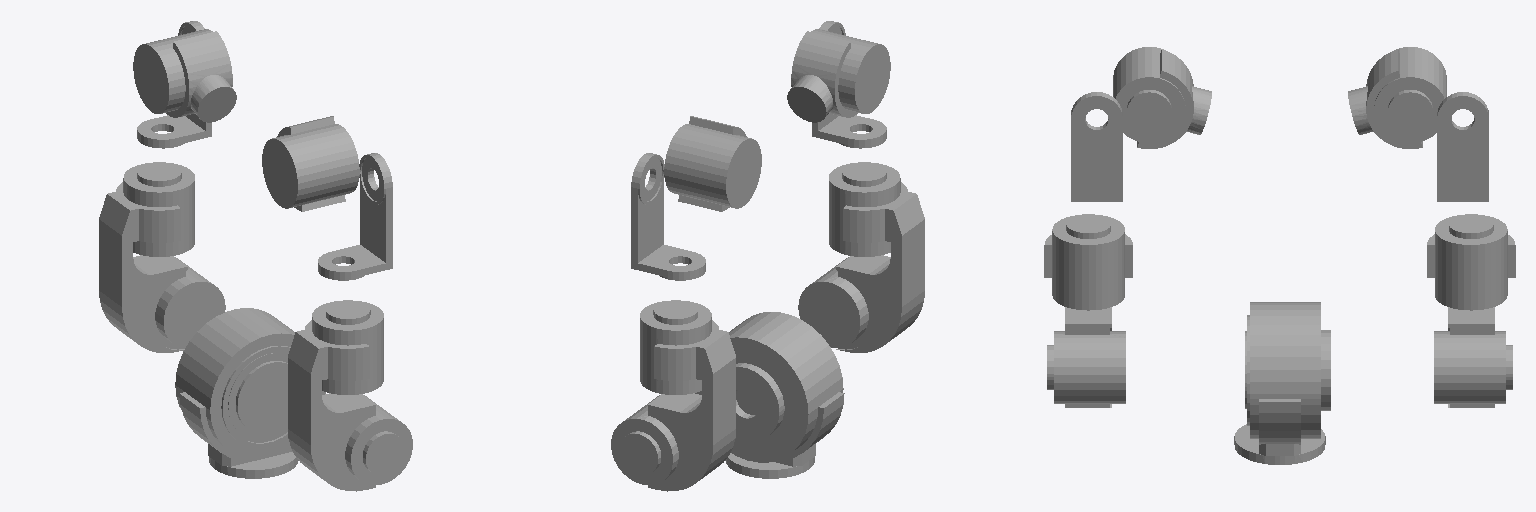
URDF robot description (g1_dual_arm):
<robot name="g1_dual_arm">
  <mujoco>
    <compiler meshdir="../meshes" discardvisual="false"/>
  </mujoco>

  <!-- [CAUTION] uncomment when convert to mujoco -->
  <!-- <link name="world"></link>
  <joint name="floating_base_joint" type="floating">
    <parent link="world"/>
    <child link="waist_yaw_link"/>
  </joint> -->

  <!-- Torso -->
  <link name="waist_yaw_link">
    <inertial>
      <origin xyz="0.003964 0 0.018769" rpy="0 0 0"/>
      <mass value="0.244"/>
      <inertia ixx="9.9587E-05" ixy="-1.833E-06" ixz="-1.2617E-05" iyy="0.00012411" iyz="-1.18E-07" izz="0.00015586"/>
    </inertial>
    <visual>
      <origin xyz="0 0 0" rpy="0 0 0"/>
      <geometry>
        <mesh filename="../meshes/waist_yaw_link.STL"/>
      </geometry>
      <material name="white">
        <color rgba="0.7 0.7 0.7 1"/>
      </material>
    </visual>
  </link>
  <link name="waist_roll_link">
    <inertial>
      <origin xyz="0 -0.000236 0.010111" rpy="0 0 0"/>
      <mass value="0.047"/>
      <inertia ixx="7.515E-06" ixy="0" ixz="0" iyy="6.398E-06" iyz="9.9E-08" izz="3.988E-06"/>
    </inertial>
    <visual>
      <origin xyz="0 0 0" rpy="0 0 0"/>
      <geometry>
        <mesh filename="../meshes/waist_roll_link.STL"/>
      </geometry>
      <material name="white">
        <color rgba="0.7 0.7 0.7 1"/>
      </material>
    </visual>
  </link>
  <joint name="waist_roll_joint" type="fixed">
    <origin xyz="-0.0039635 0 0.035" rpy="0 0 0"/>
    <parent link="waist_yaw_link"/>
    <child link="waist_roll_link"/>
    <axis xyz="1 0 0"/>
    <limit lower="-0.52" upper="0.52" effort="50" velocity="37"/>
  </joint>
  <link name="torso_link">
    <inertial>
      <origin xyz="0.002601 0.000257 0.153719" rpy="0 0 0"/>
      <mass value="8.562"/>
      <inertia ixx="0.065674966" ixy="-8.597E-05" ixz="-0.001737252" iyy="0.053535188" iyz="8.6899E-05" izz="0.030808125"/>
    </inertial>
    <visual>
      <origin xyz="0 0 0" rpy="0 0 0"/>
      <geometry>
        <mesh filename="../meshes/torso_link.STL"/>
      </geometry>
      <material name="white">
        <color rgba="0.7 0.7 0.7 1"/>
      </material>
    </visual>
    <collision>
      <origin xyz="0 0 0" rpy="0 0 0"/>
      <geometry>
        <mesh filename="../meshes/torso_link.STL"/>
      </geometry>
    </collision>
  </link>
  <joint name="waist_pitch_joint" type="fixed">
    <origin xyz="0 0 0.019" rpy="0 0 0"/>
    <parent link="waist_roll_link"/>
    <child link="torso_link"/>
    <axis xyz="0 1 0"/>
    <limit lower="-0.52" upper="0.52" effort="50" velocity="37"/>
  </joint>

  <!-- LOGO -->
  <joint name="logo_joint" type="fixed">
    <origin xyz="0.0039635 0 -0.054" rpy="0 0 0"/>
    <parent link="torso_link"/>
    <child link="logo_link"/>
  </joint>
  <link name="logo_link">
    <inertial>
      <origin xyz="0 0 0" rpy="0 0 0"/>
      <mass value="0.001"/>
      <inertia ixx="1e-7" ixy="0" ixz="0" iyy="1e-7" iyz="0" izz="1e-7"/>
    </inertial>
    <visual>
      <origin xyz="0 0 0" rpy="0 0 0"/>
      <geometry>
        <mesh filename="../meshes/logo_link.STL"/>
      </geometry>
      <material name="dark">
        <color rgba="0.2 0.2 0.2 1"/>
      </material>
    </visual>
    <collision>
      <origin xyz="0 0 0" rpy="0 0 0"/>
      <geometry>
        <mesh filename="../meshes/logo_link.STL"/>
      </geometry>
    </collision>
  </link>

  <!-- Head -->
  <link name="head_link">
    <inertial>
      <origin xyz="0.005267 0.000299 0.449869" rpy="0 0 0"/>
      <mass value="1.036"/>
      <inertia ixx="0.004085051" ixy="-2.543E-06" ixz="-6.9455E-05" iyy="0.004185212" iyz="-3.726E-06" izz="0.001807911"/>
    </inertial>
    <visual>
      <origin xyz="0 0 0" rpy="0 0 0"/>
      <geometry>
        <mesh filename="../meshes/head_link.STL"/>
      </geometry>
      <material name="dark">
        <color rgba="0.2 0.2 0.2 1"/>
      </material>
    </visual>
    <collision>
      <origin xyz="0 0 0" rpy="0 0 0"/>
      <geometry>
        <mesh filename="../meshes/head_link.STL"/>
      </geometry>
    </collision>
  </link>
  <joint name="head_joint" type="fixed">
    <origin xyz="0.0039635 0 -0.054" rpy="0 0 0"/>
    <parent link="torso_link"/>
    <child link="head_link"/>
  </joint>

  <!-- Waist Support -->
  <link name="waist_support_link">
    <inertial>
      <origin xyz="0 0 0" rpy="0 0 0"/>
      <mass value="0.001"/>
      <inertia ixx="1e-7" ixy="0" ixz="0" iyy="1e-7" iyz="0" izz="1e-7"/>
    </inertial>
    <visual>
      <origin xyz="0 0 0" rpy="0 0 0"/>
      <geometry>
        <mesh filename="../meshes/waist_support_link.STL"/>
      </geometry>
      <material name="white">
        <color rgba="0.7 0.7 0.7 1"/>
      </material>
    </visual>
    <collision>
      <origin xyz="0 0 0" rpy="0 0 0"/>
      <geometry>
        <mesh filename="../meshes/waist_support_link.STL"/>
      </geometry>
    </collision>
  </link>
  <joint name="waist_support_joint" type="fixed">
    <origin xyz="0.0039635 0 -0.054" rpy="0 0 0"/>
    <parent link="torso_link"/>
    <child link="waist_support_link"/>
  </joint>

  <!-- IMU -->
  <link name="imu_link"></link>
  <joint name="imu_joint" type="fixed">
    <origin xyz="-0.03959 -0.00224 0.13792" rpy="0 0 0"/>
    <parent link="torso_link"/>
    <child link="imu_link"/>
  </joint>

  <!-- Arm -->
  <link name="left_shoulder_pitch_link">
    <inertial>
      <origin xyz="0 0.035892 -0.011628" rpy="0 0 0"/>
      <mass value="0.718"/>
      <inertia ixx="0.0004291" ixy="-9.2E-06" ixz="6.4E-06" iyy="0.000453" iyz="2.26E-05" izz="0.000423"/>
    </inertial>
    <visual>
      <origin xyz="0 0 0" rpy="0 0 0"/>
      <geometry>
        <mesh filename="../meshes/left_shoulder_pitch_link.STL"/>
      </geometry>
      <material name="white">
        <color rgba="0.7 0.7 0.7 1"/>
      </material>
    </visual>
    <collision>
      <origin xyz="0 0.04 -0.01" rpy="0 1.5707963267948966 0"/>
      <geometry>
        <cylinder radius="0.03" length="0.05"/>
      </geometry>
    </collision>
  </link>
  <joint name="left_shoulder_pitch_joint" type="revolute">
    <origin xyz="0.0039563 0.10022 0.23778" rpy="0.27931 5.4949E-05 -0.00019159"/>
    <parent link="torso_link"/>
    <child link="left_shoulder_pitch_link"/>
    <axis xyz="0 1 0"/>
    <limit lower="-3.0892" upper="2.6704" effort="25" velocity="37"/>
  </joint>
  <link name="left_shoulder_roll_link">
    <inertial>
      <origin xyz="-0.000227 0.00727 -0.063243" rpy="0 0 0"/>
      <mass value="0.643"/>
      <inertia ixx="0.0006177" ixy="-1E-06" ixz="8.7E-06" iyy="0.0006912" iyz="-5.3E-06" izz="0.0003894"/>
    </inertial>
    <visual>
      <origin xyz="0 0 0" rpy="0 0 0"/>
      <geometry>
        <mesh filename="../meshes/left_shoulder_roll_link.STL"/>
      </geometry>
      <material name="white">
        <color rgba="0.7 0.7 0.7 1"/>
      </material>
    </visual>
    <collision>
      <origin xyz="-0.004 0.006 -0.053" rpy="0 0 0"/>
      <geometry>
        <cylinder radius="0.03" length="0.03"/>
      </geometry>
    </collision>
  </link>
  <joint name="left_shoulder_roll_joint" type="revolute">
    <origin xyz="0 0.038 -0.013831" rpy="-0.27925 0 0"/>
    <parent link="left_shoulder_pitch_link"/>
    <child link="left_shoulder_roll_link"/>
    <axis xyz="1 0 0"/>
    <limit lower="-1.5882" upper="2.2515" effort="25" velocity="37"/>
  </joint>
  <link name="left_shoulder_yaw_link">
    <inertial>
      <origin xyz="0.010773 -0.002949 -0.072009" rpy="0 0 0"/>
      <mass value="0.734"/>
      <inertia ixx="0.0009988" ixy="7.9E-06" ixz="0.0001412" iyy="0.0010605" iyz="-2.86E-05" izz="0.0004354"/>
    </inertial>
    <visual>
      <origin xyz="0 0 0" rpy="0 0 0"/>
      <geometry>
        <mesh filename="../meshes/left_shoulder_yaw_link.STL"/>
      </geometry>
      <material name="white">
        <color rgba="0.7 0.7 0.7 1"/>
      </material>
    </visual>
    <collision>
      <origin xyz="0 0 0" rpy="0 0 0"/>
      <geometry>
        <mesh filename="../meshes/left_shoulder_yaw_link.STL"/>
      </geometry>
    </collision>
  </link>
  <joint name="left_shoulder_yaw_joint" type="revolute">
    <origin xyz="0 0.00624 -0.1032" rpy="0 0 0"/>
    <parent link="left_shoulder_roll_link"/>
    <child link="left_shoulder_yaw_link"/>
    <axis xyz="0 0 1"/>
    <limit lower="-2.618" upper="2.618" effort="25" velocity="37"/>
  </joint>
  <link name="left_elbow_link">
    <inertial>
      <origin xyz="0.064956 0.004454 -0.010062" rpy="0 0 0"/>
      <mass value="0.6"/>
      <inertia ixx="0.0002891" ixy="6.53E-05" ixz="1.72E-05" iyy="0.0004152" iyz="-5.6E-06" izz="0.0004197"/>
    </inertial>
    <visual>
      <origin xyz="0 0 0" rpy="0 0 0"/>
      <geometry>
        <mesh filename="../meshes/left_elbow_link.STL"/>
      </geometry>
      <material name="white">
        <color rgba="0.7 0.7 0.7 1"/>
      </material>
    </visual>
    <collision>
      <origin xyz="0 0 0" rpy="0 0 0"/>
      <geometry>
        <mesh filename="../meshes/left_elbow_link.STL"/>
      </geometry>
    </collision>
  </link>
  <joint name="left_elbow_joint" type="revolute">
    <origin xyz="0.015783 0 -0.080518" rpy="0 0 0"/>
    <parent link="left_shoulder_yaw_link"/>
    <child link="left_elbow_link"/>
    <axis xyz="0 1 0"/>
    <limit lower="-1.0472" upper="2.0944" effort="25" velocity="37"/>
  </joint>
  <joint name="left_wrist_roll_joint" type="revolute">
    <origin xyz="0.100 0.00188791 -0.010" rpy="0 0 0"/>
    <axis xyz="1 0 0"/>
    <parent link="left_elbow_link"/>
    <child link="left_wrist_roll_link"/>
    <limit effort="25" velocity="37" lower="-1.972222054" upper="1.972222054"/>
  </joint>
  <link name="left_wrist_roll_link">
    <inertial>
      <origin xyz="0.01713944778 0.00053759094 0.00000048864" rpy="0 0 0"/>
      <mass value="0.08544498"/>
      <inertia ixx="0.00004821544023" ixy="-0.00000424511021" ixz="0.00000000510599" iyy="0.00003722899093" iyz="-0.00000000123525" izz="0.00005482106541"/>
    </inertial>
    <visual>
      <origin xyz="0 0 0" rpy="0 0 0"/>
      <geometry>
        <mesh filename="../meshes/left_wrist_roll_link.STL"/>
      </geometry>
      <material name="white">
        <color rgba="0.7 0.7 0.7 1"/>
      </material>
    </visual>
    <collision>
      <origin xyz="0 0 0" rpy="0 0 0"/>
      <geometry>
        <mesh filename="../meshes/left_wrist_roll_link.STL"/>
      </geometry>
    </collision>
  </link>
  <joint name="left_wrist_pitch_joint" type="revolute">
    <origin xyz="0.038 0 0" rpy="0 0 0"/>
    <axis xyz="0 1 0"/>
    <parent link="left_wrist_roll_link"/>
    <child link="left_wrist_pitch_link"/>
    <limit effort="5" velocity="22" lower="-1.614429558" upper="1.614429558"/>
  </joint>
  <link name="left_wrist_pitch_link">
    <inertial>
      <origin xyz="0.02299989837 -0.00111685314 -0.00111658096" rpy="0 0 0"/>
      <mass value="0.48404956"/>
      <inertia ixx="0.00016579646273" ixy="-0.00001231206746" ixz="0.00001231699194" iyy="0.00042954057410" iyz="0.00000081417712" izz="0.00042953697654"/>
    </inertial>
    <visual>
      <origin xyz="0 0 0" rpy="0 0 0"/>
      <geometry>
        <mesh filename="../meshes/left_wrist_pitch_link.STL"/>
      </geometry>
      <material name="white">
        <color rgba="0.7 0.7 0.7 1"/>
      </material>
    </visual>
    <collision>
      <origin xyz="0 0 0" rpy="0 0 0"/>
      <geometry>
        <mesh filename="../meshes/left_wrist_pitch_link.STL"/>
      </geometry>
    </collision>
  </link>
  <joint name="left_wrist_yaw_joint" type="revolute">
    <origin xyz="0.046 0 0" rpy="0 0 0"/>
    <axis xyz="0 0 1"/>
    <parent link="left_wrist_pitch_link"/>
    <child link="left_wrist_yaw_link"/>
    <limit effort="5" velocity="22" lower="-1.614429558" upper="1.614429558"/>
  </joint>
  <link name="left_wrist_yaw_link">
    <inertial>
      <origin xyz="0.02200381568 0.00049485096 0.00053861123" rpy="0 0 0"/>
      <mass value="0.08457647"/>
      <inertia ixx="0.00004929128828" ixy="-0.00000045735494" ixz="0.00000445867591" iyy="0.00005973338134" iyz="0.00000043217198" izz="0.00003928083826"/>
    </inertial>
    <visual>
      <origin xyz="0 0 0" rpy="0 0 0"/>
      <geometry>
        <mesh filename="../meshes/left_wrist_yaw_link.STL"/>
      </geometry>
      <material name="white">
        <color rgba="0.7 0.7 0.7 1"/>
      </material>
    </visual>
    <collision>
      <origin xyz="0 0 0" rpy="0 0 0"/>
      <geometry>
        <mesh filename="../meshes/left_wrist_yaw_link.STL"/>
      </geometry>
    </collision>
  </link>
  <joint name="left_hand_palm_joint" type="fixed">
    <origin xyz="0.0415 0.003 0" rpy="0 0 0"/>
    <parent link="left_wrist_yaw_link"/>
    <child link="left_rubber_hand"/>
  </joint>
  <link name="left_rubber_hand">
    <inertial>
      <origin xyz="0.05361310808 -0.00295905240 0.00215413091" rpy="0 0 0"/>
      <mass value="0.170"/>
      <inertia ixx="0.00010099485234748" ixy="0.00003618590790516" ixz="-0.00000074301518642" iyy="0.00028135871571621" iyz="0.00000330189743286" izz="0.00021894770413514"/>
    </inertial>
    <visual>
      <origin xyz="0 0 0" rpy="0 0 0"/>
      <geometry>
        <mesh filename="../meshes/left_rubber_hand.STL"/>
      </geometry>
      <material name="white">
        <color rgba="0.7 0.7 0.7 1"/>
      </material>
    </visual>
  </link>
  <link name="right_shoulder_pitch_link">
    <inertial>
      <origin xyz="0 -0.035892 -0.011628" rpy="0 0 0"/>
      <mass value="0.718"/>
      <inertia ixx="0.0004291" ixy="9.2E-06" ixz="6.4E-06" iyy="0.000453" iyz="-2.26E-05" izz="0.000423"/>
    </inertial>
    <visual>
      <origin xyz="0 0 0" rpy="0 0 0"/>
      <geometry>
        <mesh filename="../meshes/right_shoulder_pitch_link.STL"/>
      </geometry>
      <material name="white">
        <color rgba="0.7 0.7 0.7 1"/>
      </material>
    </visual>
    <collision>
      <origin xyz="0 -0.04 -0.01" rpy="0 1.5707963267948966 0"/>
      <geometry>
        <cylinder radius="0.03" length="0.05"/>
      </geometry>
    </collision>
  </link>
  <joint name="right_shoulder_pitch_joint" type="revolute">
    <origin xyz="0.0039563 -0.10021 0.23778" rpy="-0.27931 5.4949E-05 0.00019159"/>
    <parent link="torso_link"/>
    <child link="right_shoulder_pitch_link"/>
    <axis xyz="0 1 0"/>
    <limit lower="-3.0892" upper="2.6704" effort="25" velocity="37"/>
  </joint>
  <link name="right_shoulder_roll_link">
    <inertial>
      <origin xyz="-0.000227 -0.00727 -0.063243" rpy="0 0 0"/>
      <mass value="0.643"/>
      <inertia ixx="0.0006177" ixy="1E-06" ixz="8.7E-06" iyy="0.0006912" iyz="5.3E-06" izz="0.0003894"/>
    </inertial>
    <visual>
      <origin xyz="0 0 0" rpy="0 0 0"/>
      <geometry>
        <mesh filename="../meshes/right_shoulder_roll_link.STL"/>
      </geometry>
      <material name="white">
        <color rgba="0.7 0.7 0.7 1"/>
      </material>
    </visual>
    <collision>
      <origin xyz="-0.004 -0.006 -0.053" rpy="0 0 0"/>
      <geometry>
        <cylinder radius="0.03" length="0.03"/>
      </geometry>
    </collision>
  </link>
  <joint name="right_shoulder_roll_joint" type="revolute">
    <origin xyz="0 -0.038 -0.013831" rpy="0.27925 0 0"/>
    <parent link="right_shoulder_pitch_link"/>
    <child link="right_shoulder_roll_link"/>
    <axis xyz="1 0 0"/>
    <limit lower="-2.2515" upper="1.5882" effort="25" velocity="37"/>
  </joint>
  <link name="right_shoulder_yaw_link">
    <inertial>
      <origin xyz="0.010773 0.002949 -0.072009" rpy="0 0 0"/>
      <mass value="0.734"/>
      <inertia ixx="0.0009988" ixy="-7.9E-06" ixz="0.0001412" iyy="0.0010605" iyz="2.86E-05" izz="0.0004354"/>
    </inertial>
    <visual>
      <origin xyz="0 0 0" rpy="0 0 0"/>
      <geometry>
        <mesh filename="../meshes/right_shoulder_yaw_link.STL"/>
      </geometry>
      <material name="white">
        <color rgba="0.7 0.7 0.7 1"/>
      </material>
    </visual>
    <collision>
      <origin xyz="0 0 0" rpy="0 0 0"/>
      <geometry>
        <mesh filename="../meshes/right_shoulder_yaw_link.STL"/>
      </geometry>
    </collision>
  </link>
  <joint name="right_shoulder_yaw_joint" type="revolute">
    <origin xyz="0 -0.00624 -0.1032" rpy="0 0 0"/>
    <parent link="right_shoulder_roll_link"/>
    <child link="right_shoulder_yaw_link"/>
    <axis xyz="0 0 1"/>
    <limit lower="-2.618" upper="2.618" effort="25" velocity="37"/>
  </joint>
  <link name="right_elbow_link">
    <inertial>
      <origin xyz="0.064956 -0.004454 -0.010062" rpy="0 0 0"/>
      <mass value="0.6"/>
      <inertia ixx="0.0002891" ixy="-6.53E-05" ixz="1.72E-05" iyy="0.0004152" iyz="5.6E-06" izz="0.0004197"/>
    </inertial>
    <visual>
      <origin xyz="0 0 0" rpy="0 0 0"/>
      <geometry>
        <mesh filename="../meshes/right_elbow_link.STL"/>
      </geometry>
      <material name="white">
        <color rgba="0.7 0.7 0.7 1"/>
      </material>
    </visual>
    <collision>
      <origin xyz="0 0 0" rpy="0 0 0"/>
      <geometry>
        <mesh filename="../meshes/right_elbow_link.STL"/>
      </geometry>
    </collision>
  </link>
  <joint name="right_elbow_joint" type="revolute">
    <origin xyz="0.015783 0 -0.080518" rpy="0 0 0"/>
    <parent link="right_shoulder_yaw_link"/>
    <child link="right_elbow_link"/>
    <axis xyz="0 1 0"/>
    <limit lower="-1.0472" upper="2.0944" effort="25" velocity="37"/>
  </joint>
  <joint name="right_wrist_roll_joint" type="revolute">
    <origin xyz="0.100 -0.00188791 -0.010" rpy="0 0 0"/>
    <axis xyz="1 0 0"/>
    <parent link="right_elbow_link"/>
    <child link="right_wrist_roll_link"/>
    <limit effort="25" velocity="37" lower="-1.972222054" upper="1.972222054"/>
  </joint>
  <link name="right_wrist_roll_link">
    <inertial>
      <origin xyz="0.01713944778 -0.00053759094 0.00000048864" rpy="0 0 0"/>
      <mass value="0.08544498"/>
      <inertia ixx="0.00004821544023" ixy="0.00000424511021" ixz="0.00000000510599" iyy="0.00003722899093" iyz="0.00000000123525" izz="0.00005482106541"/>
    </inertial>
    <visual>
      <origin xyz="0 0 0" rpy="0 0 0"/>
      <geometry>
        <mesh filename="../meshes/right_wrist_roll_link.STL"/>
      </geometry>
      <material name="white">
        <color rgba="0.7 0.7 0.7 1"/>
      </material>
    </visual>
    <collision>
      <origin xyz="0 0 0" rpy="0 0 0"/>
      <geometry>
        <mesh filename="../meshes/right_wrist_roll_link.STL"/>
      </geometry>
    </collision>
  </link>
  <joint name="right_wrist_pitch_joint" type="revolute">
    <origin xyz="0.038 0 0" rpy="0 0 0"/>
    <axis xyz="0 1 0"/>
    <parent link="right_wrist_roll_link"/>
    <child link="right_wrist_pitch_link"/>
    <limit effort="5" velocity="22" lower="-1.614429558" upper="1.614429558"/>
  </joint>
  <link name="right_wrist_pitch_link">
    <inertial>
      <origin xyz="0.02299989837 0.00111685314 -0.00111658096" rpy="0 0 0"/>
      <mass value="0.48404956"/>
      <inertia ixx="0.00016579646273" ixy="0.00001231206746" ixz="0.00001231699194" iyy="0.00042954057410" iyz="-0.00000081417712" izz="0.00042953697654"/>
    </inertial>
    <visual>
      <origin xyz="0 0 0" rpy="0 0 0"/>
      <geometry>
        <mesh filename="../meshes/right_wrist_pitch_link.STL"/>
      </geometry>
      <material name="white">
        <color rgba="0.7 0.7 0.7 1"/>
      </material>
    </visual>
    <collision>
      <origin xyz="0 0 0" rpy="0 0 0"/>
      <geometry>
        <mesh filename="../meshes/right_wrist_pitch_link.STL"/>
      </geometry>
    </collision>
  </link>
  <joint name="right_wrist_yaw_joint" type="revolute">
    <origin xyz="0.046 0 0" rpy="0 0 0"/>
    <axis xyz="0 0 1"/>
    <parent link="right_wrist_pitch_link"/>
    <child link="right_wrist_yaw_link"/>
    <limit effort="5" velocity="22" lower="-1.614429558" upper="1.614429558"/>
  </joint>
  <link name="right_wrist_yaw_link">
    <inertial>
      <origin xyz="0.02200381568 -0.00049485096 0.00053861123" rpy="0 0 0"/>
      <mass value="0.08457647"/>
      <inertia ixx="0.00004929128828" ixy="0.00000045735494" ixz="0.00000445867591" iyy="0.00005973338134" iyz="-0.00000043217198" izz="0.00003928083826"/>
    </inertial>
    <visual>
      <origin xyz="0 0 0" rpy="0 0 0"/>
      <geometry>
        <mesh filename="../meshes/right_wrist_yaw_link.STL"/>
      </geometry>
      <material name="white">
        <color rgba="0.7 0.7 0.7 1"/>
      </material>
    </visual>
    <collision>
      <origin xyz="0 0 0" rpy="0 0 0"/>
      <geometry>
        <mesh filename="../meshes/right_wrist_yaw_link.STL"/>
      </geometry>
    </collision>
  </link>
  <joint name="right_hand_palm_joint" type="fixed">
    <origin xyz="0.0415 -0.003 0" rpy="0 0 0"/>
    <parent link="right_wrist_yaw_link"/>
    <child link="right_rubber_hand"/>
  </joint>
  <link name="right_rubber_hand">
    <inertial>
      <origin xyz="0.05361310808 0.00295905240 0.00215413091" rpy="0 0 0"/>
      <mass value="0.170"/>
      <inertia ixx="0.00010099485234748" ixy="-0.00003618590790516" ixz="-0.00000074301518642" iyy="0.00028135871571621" iyz="-0.00000330189743286" izz="0.00021894770413514"/>
    </inertial>
    <visual>
      <origin xyz="0 0 0" rpy="0 0 0"/>
      <geometry>
        <mesh filename="../meshes/right_rubber_hand.STL"/>
      </geometry>
      <material name="white">
        <color rgba="0.7 0.7 0.7 1"/>
      </material>
    </visual>
  </link>
</robot>

--- Render facts (derived) ---
3 views of the same robot in one strip: view 1: azimuth 30°, elevation 25°; view 2: azimuth 150°, elevation 25°; view 3: azimuth 270°, elevation 25° (orthographic).
Robot: g1_dual_arm — 23 links, 22 joints (14 revolute, 8 fixed); root link waist_yaw_link; default pose: all joints at 0.
Links seen in each view (by area): view 1: right_shoulder_yaw_link, left_shoulder_yaw_link, waist_yaw_link, left_shoulder_pitch_link, right_shoulder_pitch_link, right_shoulder_roll_link, left_shoulder_roll_link; view 2: left_shoulder_yaw_link, right_shoulder_yaw_link, waist_yaw_link, right_shoulder_pitch_link, left_shoulder_pitch_link, left_shoulder_roll_link, right_shoulder_roll_link; view 3: left_shoulder_yaw_link, right_shoulder_yaw_link, waist_yaw_link, left_shoulder_pitch_link, right_shoulder_pitch_link, left_shoulder_roll_link, right_shoulder_roll_link.
Boxes of the visible links, box(x1,y1,x2,y2) form: right_shoulder_yaw_link: box(288, 300, 412, 491); left_shoulder_yaw_link: box(99, 162, 225, 352); waist_yaw_link: box(175, 308, 325, 478); left_shoulder_pitch_link: box(133, 29, 236, 122); right_shoulder_pitch_link: box(262, 116, 359, 211); right_shoulder_roll_link: box(318, 153, 392, 280); left_shoulder_roll_link: box(137, 21, 211, 148); left_shoulder_yaw_link: box(611, 300, 735, 491); right_shoulder_yaw_link: box(798, 162, 924, 352); waist_yaw_link: box(695, 312, 844, 478); right_shoulder_pitch_link: box(787, 29, 890, 122); left_shoulder_pitch_link: box(664, 116, 761, 211); left_shoulder_roll_link: box(631, 153, 705, 280); right_shoulder_roll_link: box(812, 21, 886, 148); left_shoulder_yaw_link: box(1427, 214, 1515, 407); right_shoulder_yaw_link: box(1044, 214, 1132, 407); waist_yaw_link: box(1234, 302, 1330, 464); left_shoulder_pitch_link: box(1348, 47, 1446, 148); right_shoulder_pitch_link: box(1113, 47, 1211, 148); left_shoulder_roll_link: box(1437, 92, 1488, 201); right_shoulder_roll_link: box(1071, 92, 1122, 201).
Size in the robot's own frame: 0.115 by 0.3616 by 0.327 metres.
7 mesh visuals loaded from 22 distinct referenced files (7 binary STL); not drawn: 15 (reference not matched to a file when rendering).